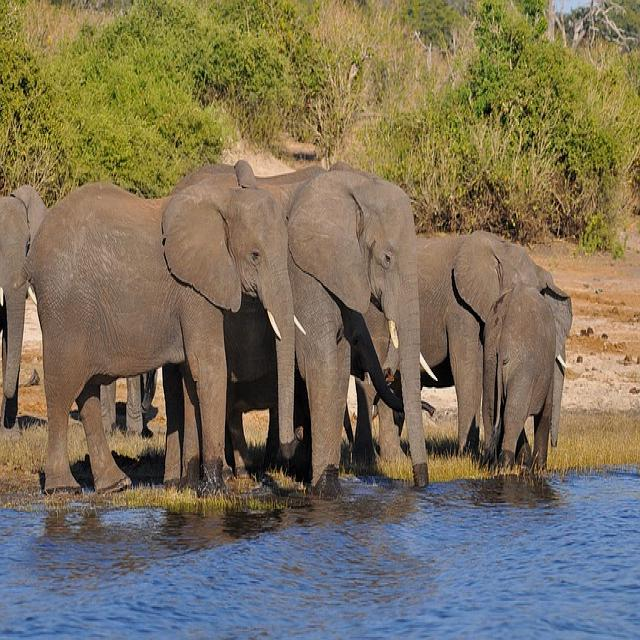FIL: (41, 179, 309, 506)
